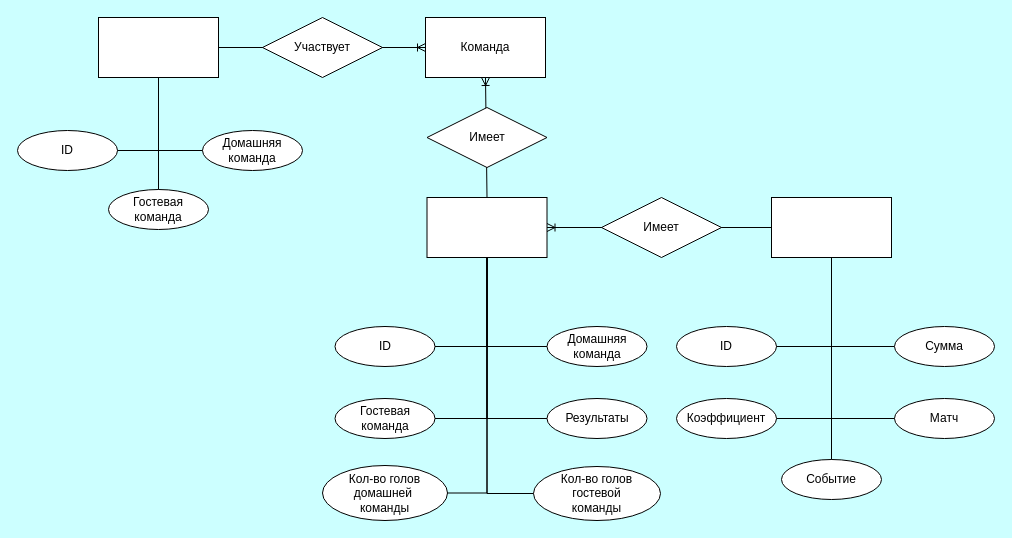
This 1012x538 diagram has some shape labels left out. The centre of each missing label's shape, as x and y in pixels:
Результаты матчей: point (486, 227)
Ставка: point (831, 227)
Тур: point (158, 47)
